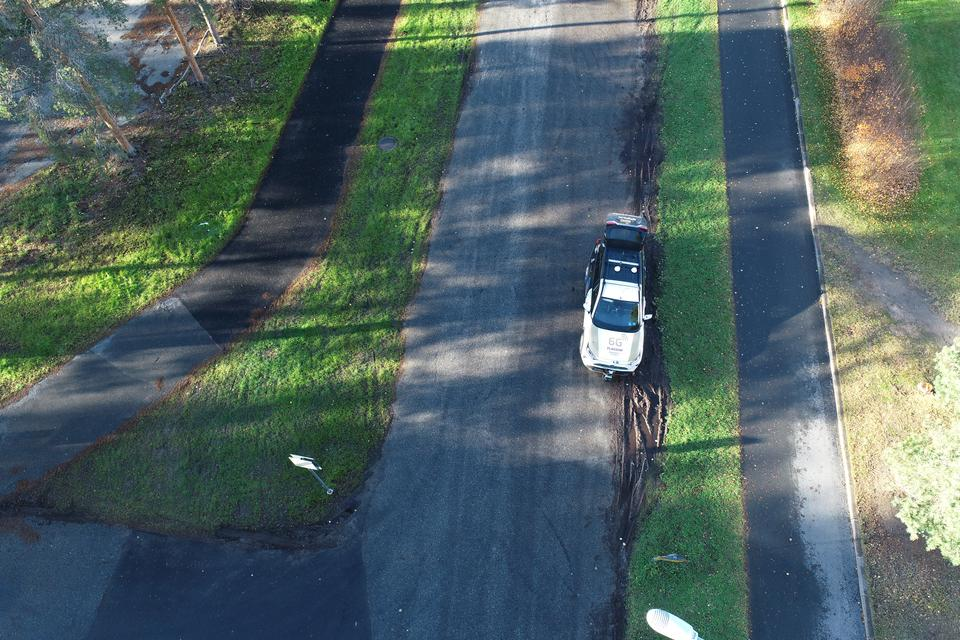intersection: (0, 334, 686, 640)
